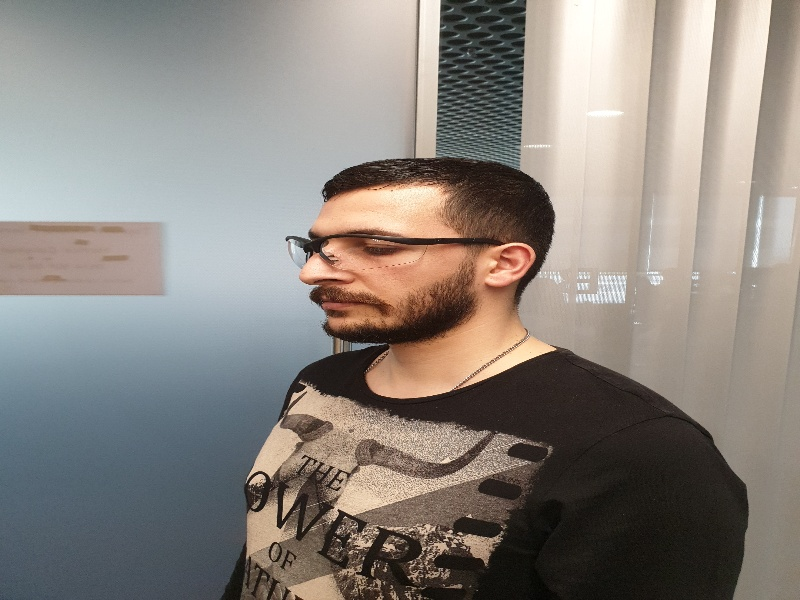Gozluk: (284, 235, 504, 264)
